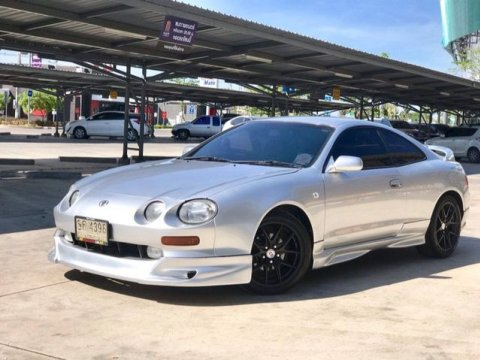sedan: (45, 115, 471, 295)
